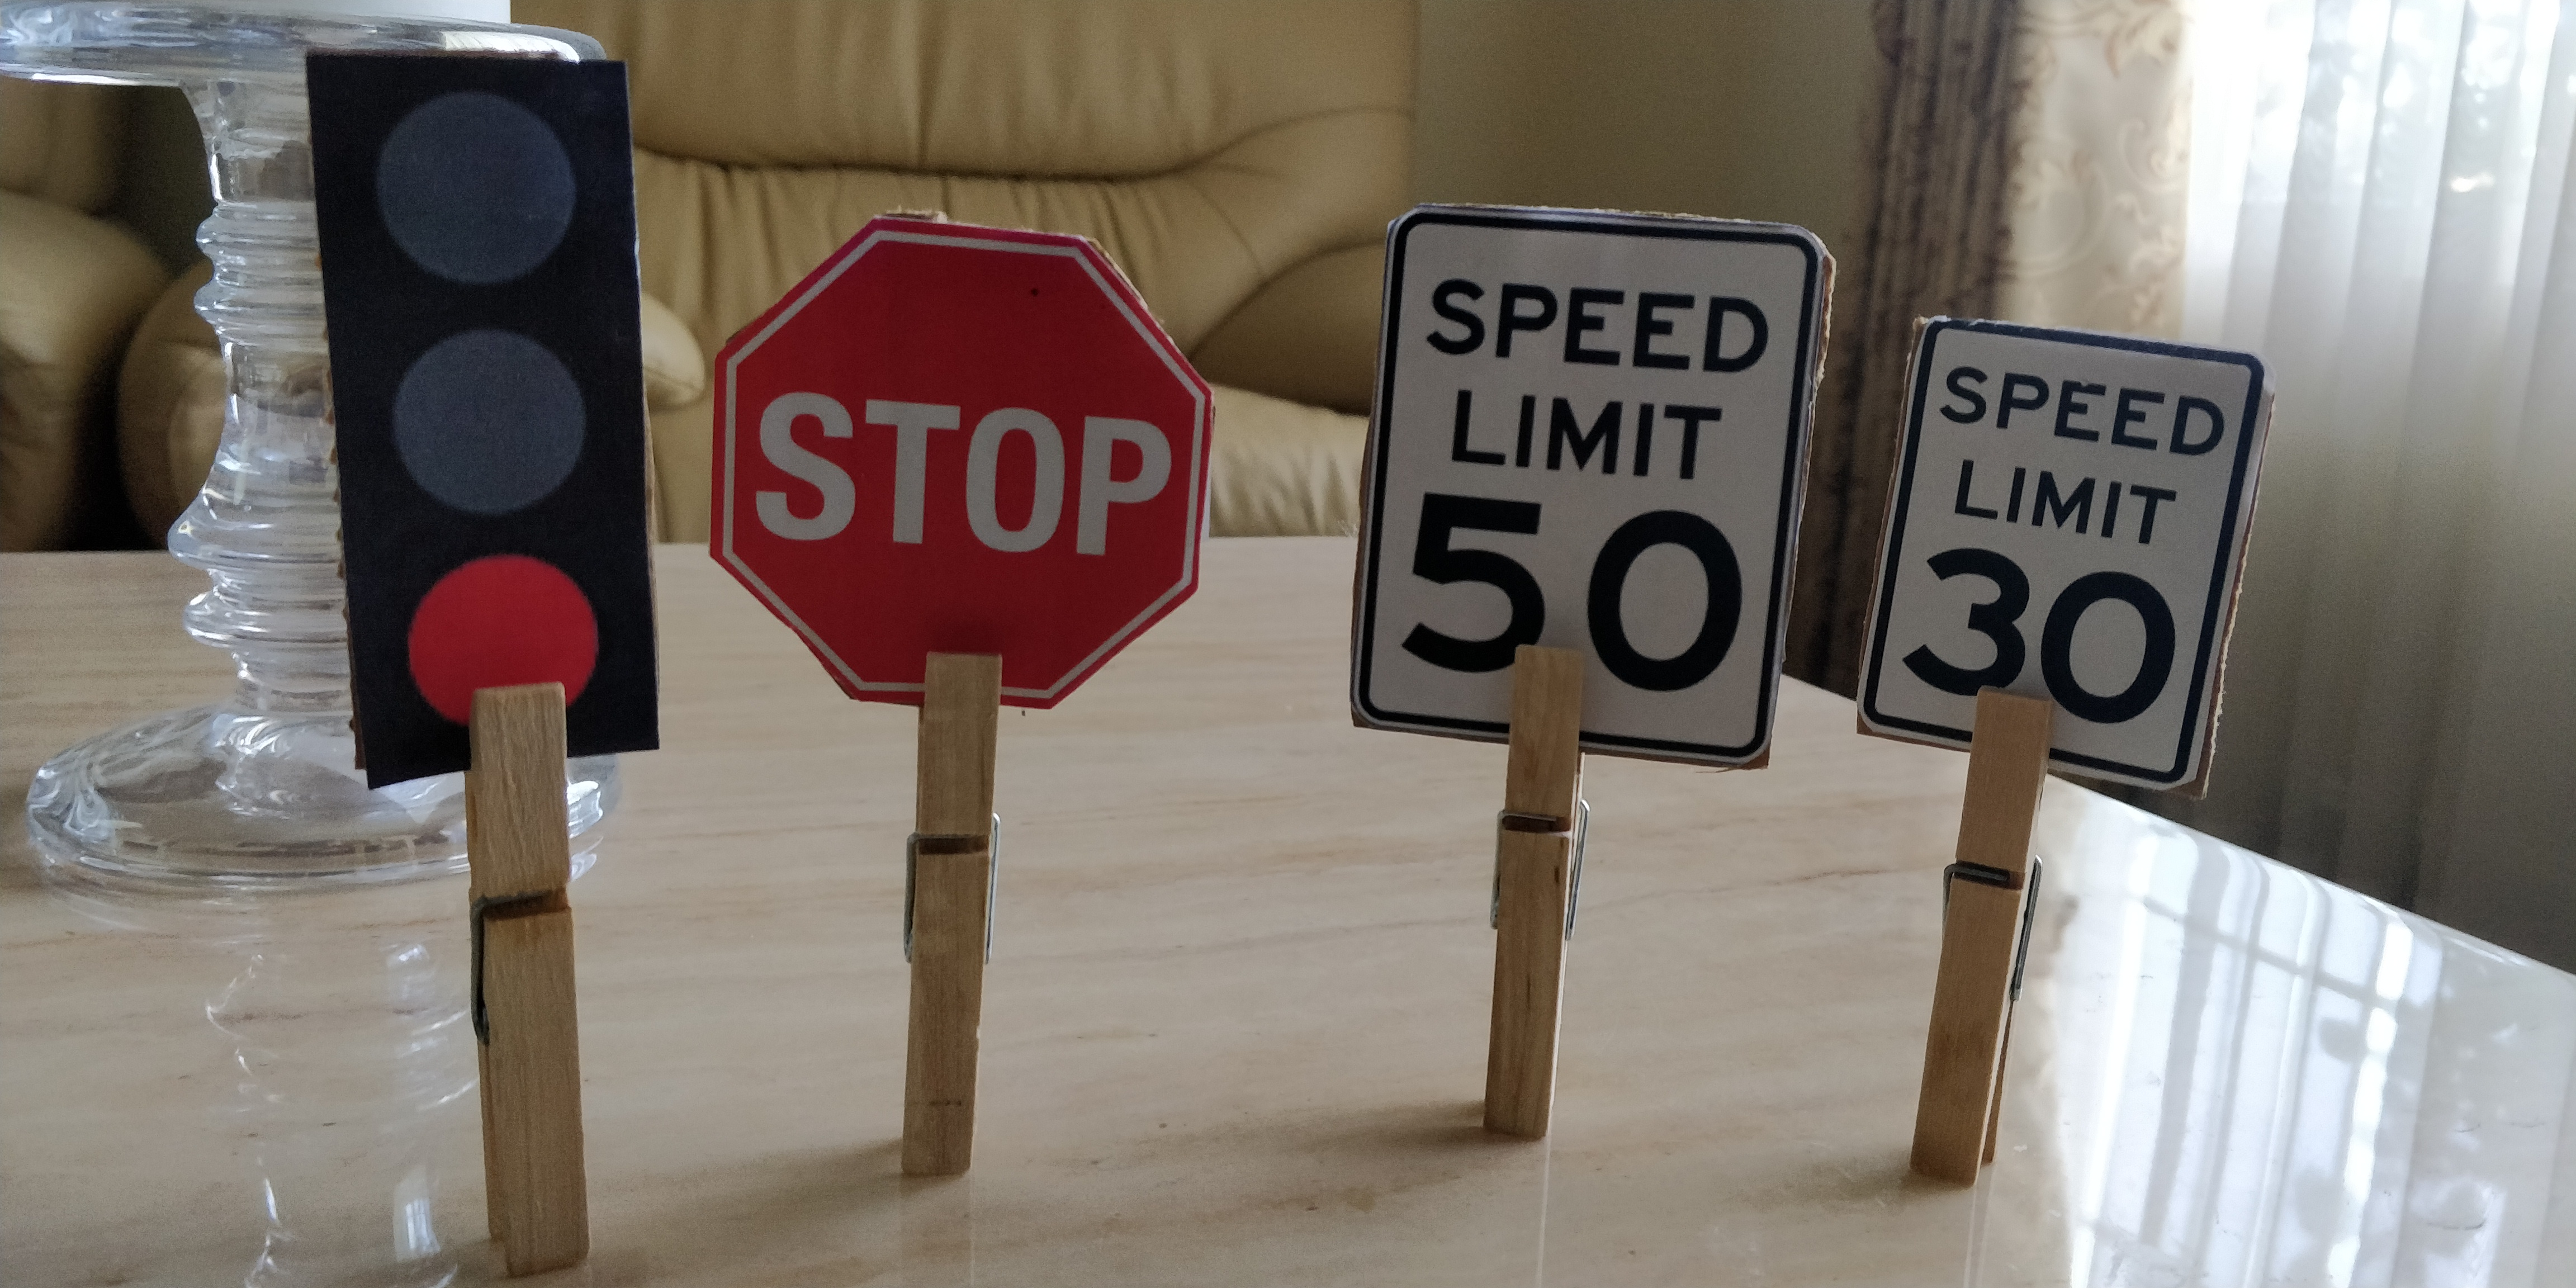Speed Limit 30: (1865, 312, 2272, 800)
Speed Limit 50: (1352, 210, 1829, 766)
Stop Sign: (710, 215, 1211, 715)
red light: (304, 49, 656, 790)
